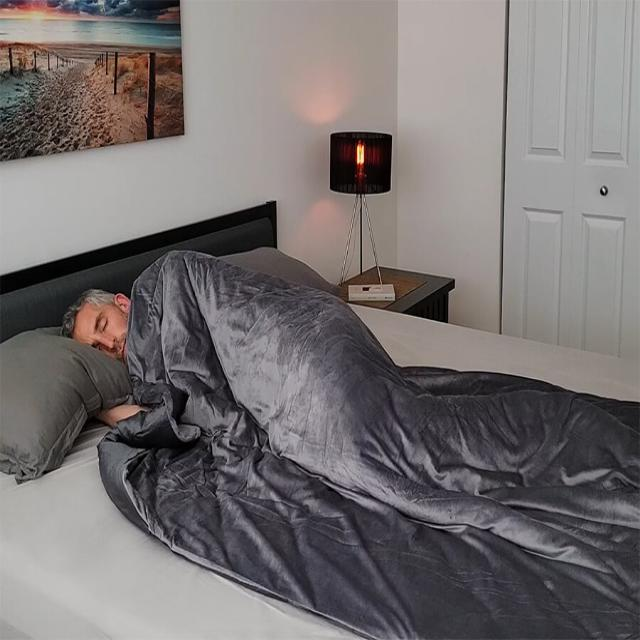blanket: (100, 254, 640, 639)
